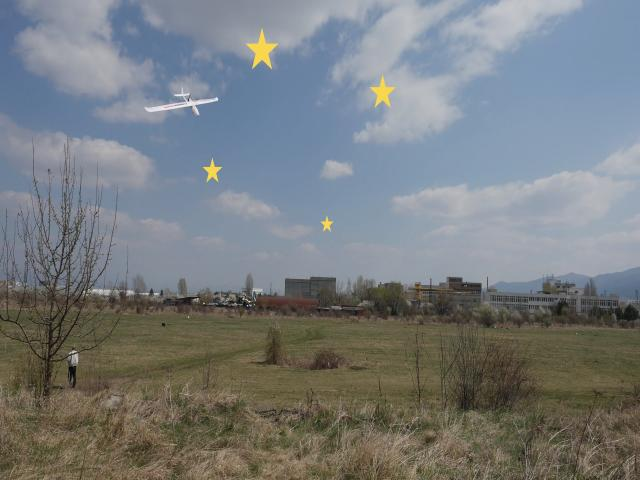plane: (144, 88, 218, 117)
